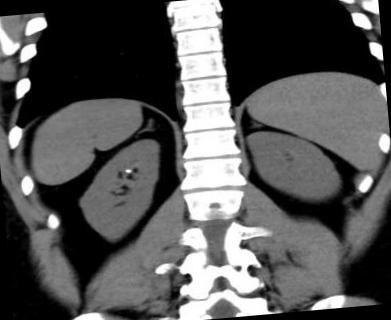Tas_Var: (122, 168, 134, 175)
